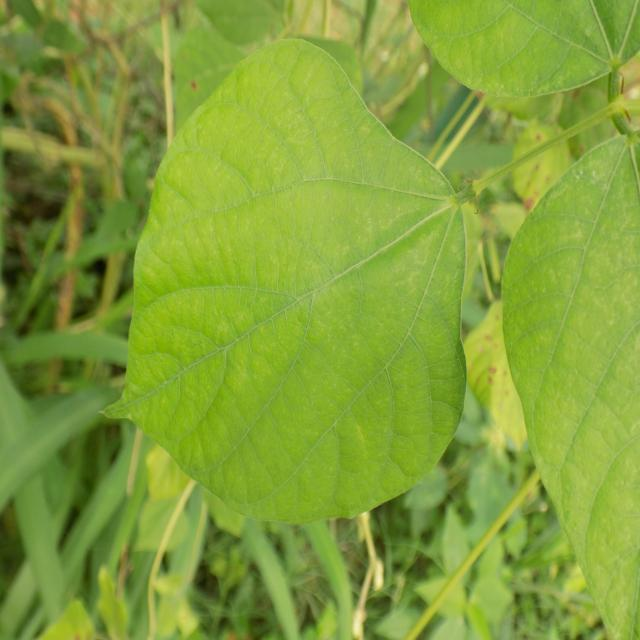Dolicos bean_healthy: (107, 35, 466, 522)
